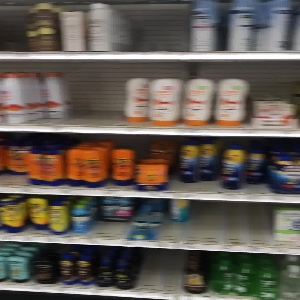void: (50, 62, 124, 126), (192, 200, 271, 248), (123, 2, 188, 50), (131, 249, 183, 296)
